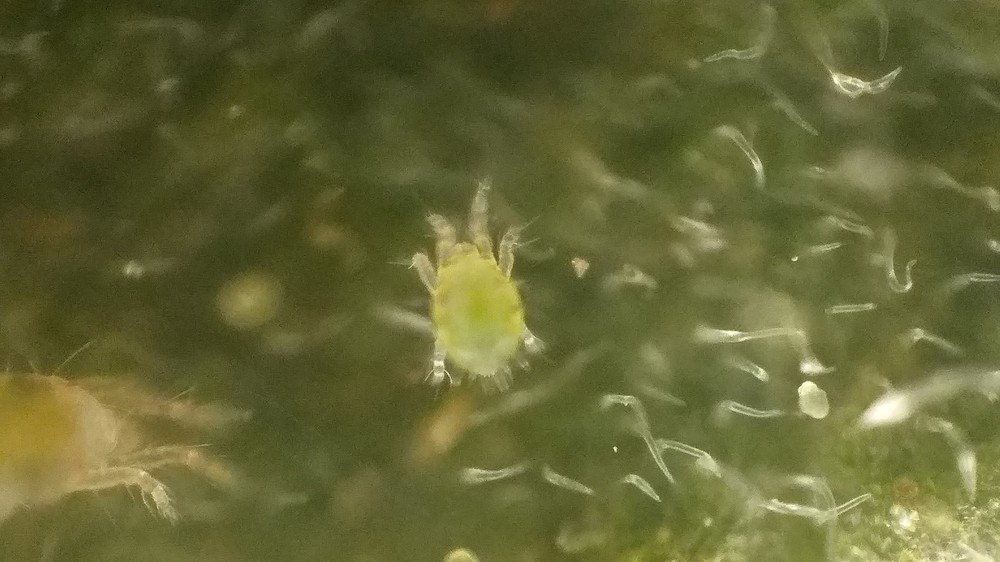Aracnido Rojo: (1, 333, 284, 545), (364, 174, 582, 410)
